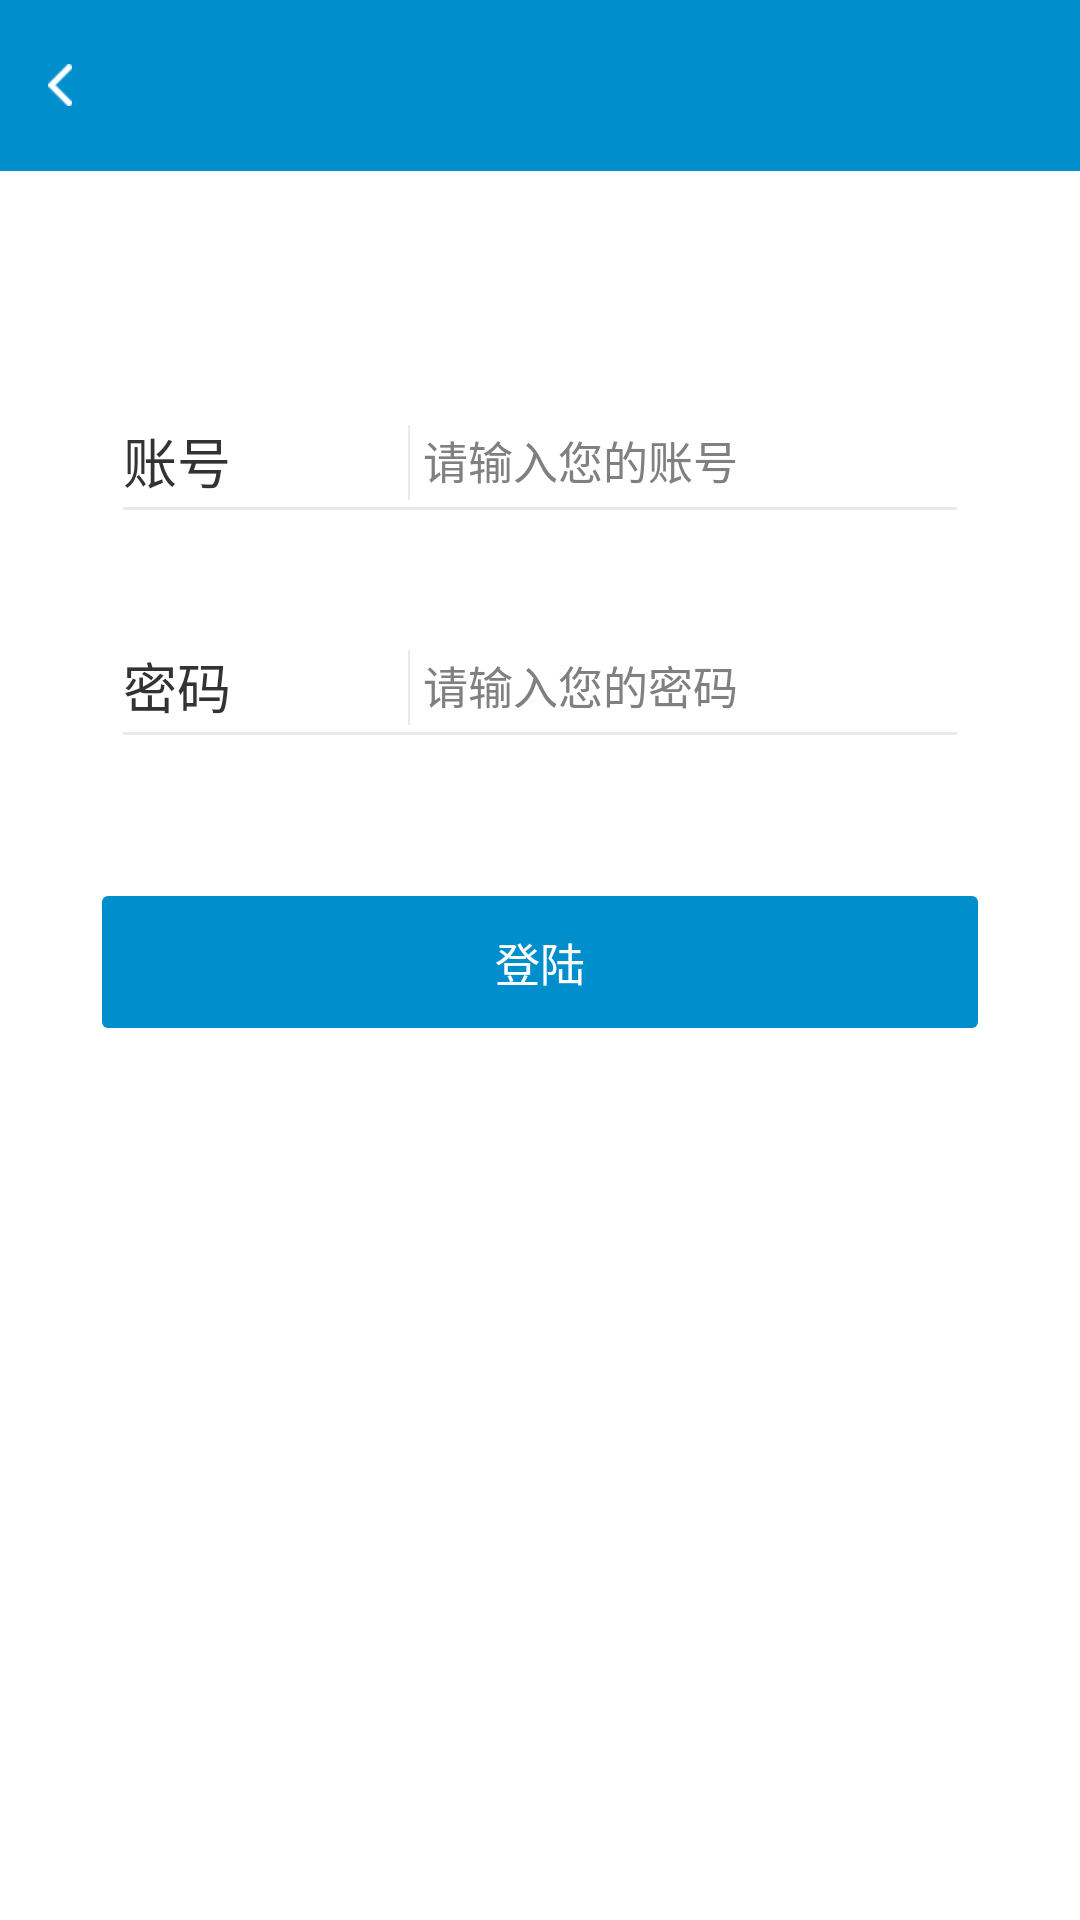

Locate icon controls on the screen. Image size 1080px x 1920px, boxes as (x1, y1, x2, y2).
back: (48, 64, 72, 106)
